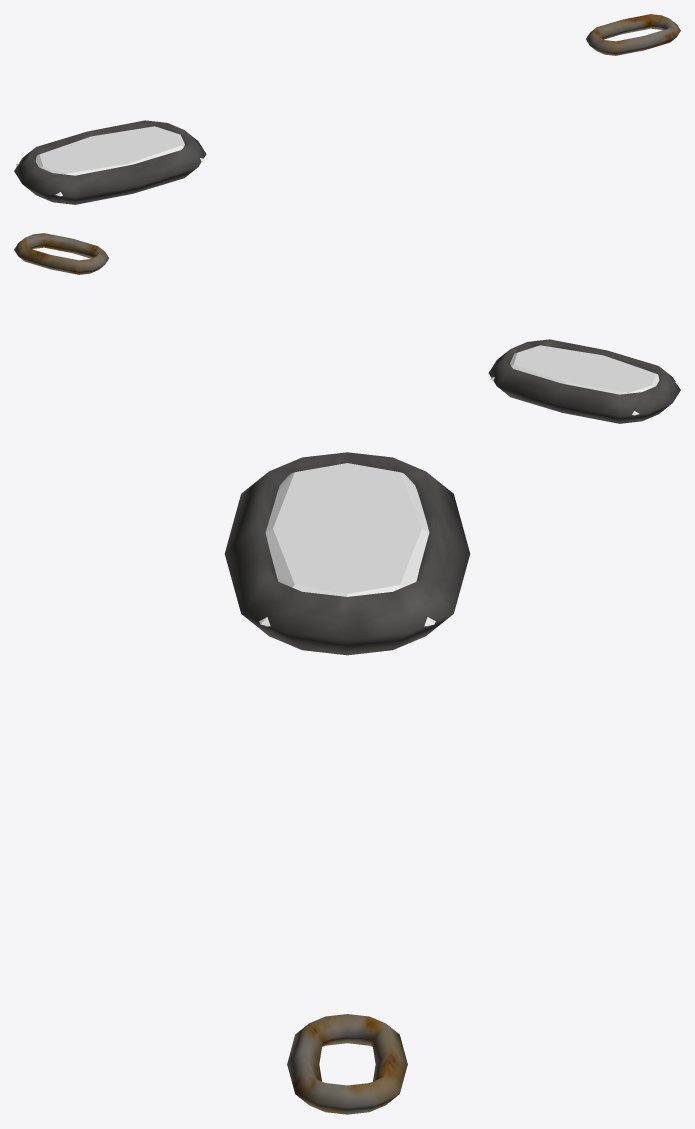
The model's file is chain_link.webp.glb.
3 views of the same model, one above another, from view 1: azimuth 30°, elevation 25°; view 2: azimuth 150°, elevation 25°; view 3: azimuth 270°, elevation 25° (orthographic). The views are drawn at different scales.
Visible parts, largest first — view 1: LOD0_LINK_big, COL, LOD0_LINK_small; view 2: LOD0_LINK_big, COL, LOD0_LINK_small; view 3: LOD0_LINK_big, COL, LOD0_LINK_small.
Boxes of the visible parts, bbox=[...] form: LOD0_LINK_big: bbox=[14, 120, 206, 204]; COL: bbox=[16, 126, 204, 196]; LOD0_LINK_small: bbox=[586, 14, 680, 55]; LOD0_LINK_big: bbox=[488, 339, 680, 423]; COL: bbox=[490, 345, 678, 415]; LOD0_LINK_small: bbox=[14, 233, 108, 274]; LOD0_LINK_big: bbox=[224, 452, 470, 655]; COL: bbox=[259, 463, 435, 626]; LOD0_LINK_small: bbox=[287, 1014, 407, 1114].
Bounding box in the file's own units: 0.751 × 0.032 × 0.122.
1 material, 1 textured.
